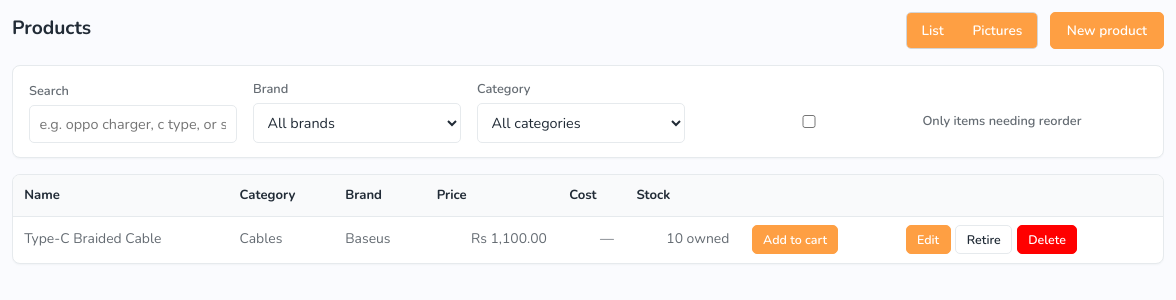
Scenario: Products search › asks for more letters instead of searching for a single letter
Expected: the text "Type-C Braided Cable" is shown, [13,217,228,263]
In the field labelled "Search": (133, 124) [29,105,237,143], type "c"
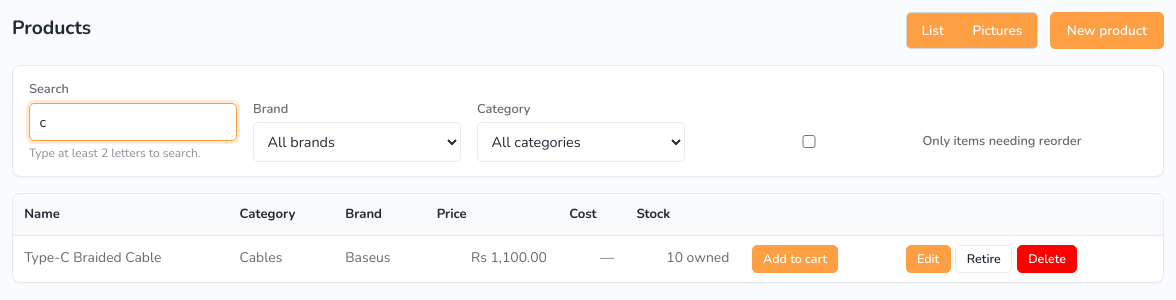
Expected: the text "Type-C Braided Cable" is shown, [13,236,228,282]
Now the text "Type at least 2 letters to search." is shown, box [29,145,200,161]
